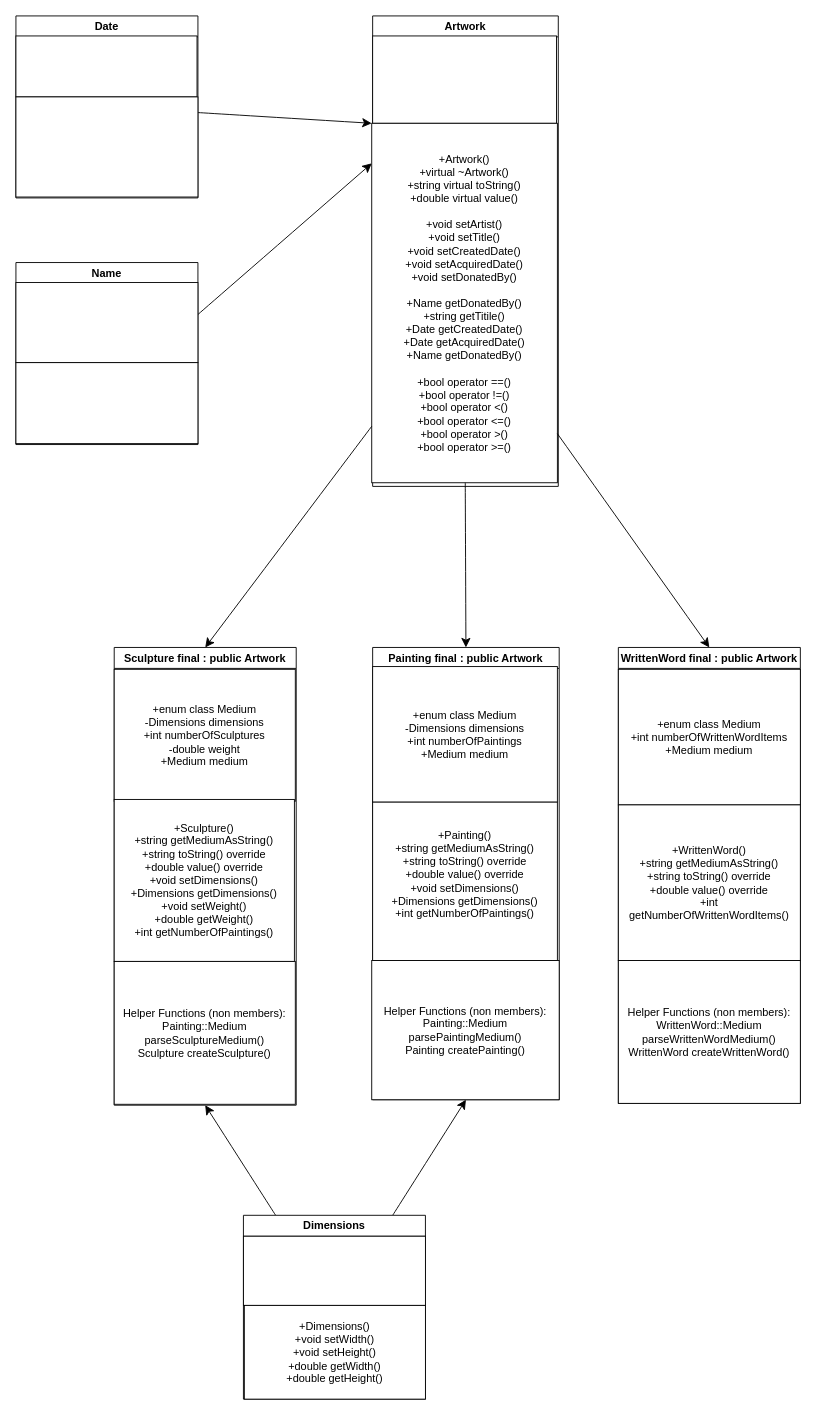
This 816x1415 diagram has some shape labels left out. Each missing label, with the centre of its shape:
+Date() +string toString() +int getYear(): pixel 106 146
+Name() +string toString(): pixel 106 403
-artist: Name -title: string -created: Date -acquired: Date -donatedBy: Name: pixel 464 79
-double width -double height: pixel 334 1270
-int month -int day -int year: pixel 106 66
-string firstName -string lastName: pixel 106 322
